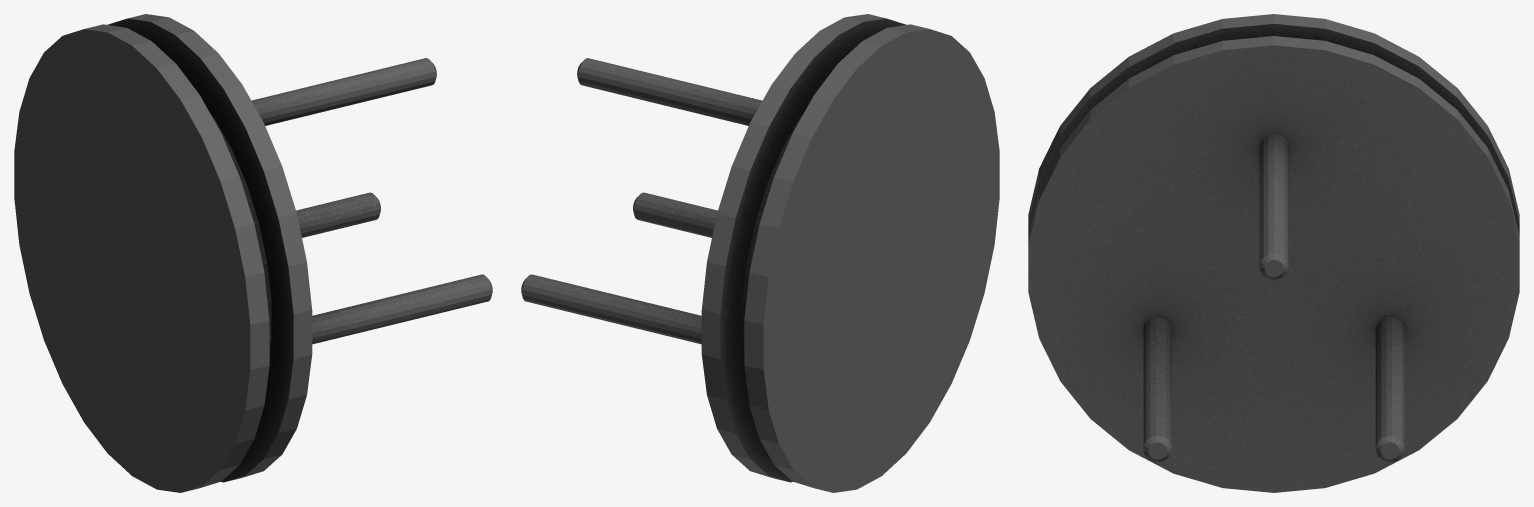
The model's file is wheel_rotor.dae.
3 renders of one model, left to right at view 1: azimuth 30°, elevation 25°; view 2: azimuth 150°, elevation 25°; view 3: azimuth 270°, elevation 25°, orthographic. The views are drawn at different scales.
Parts seen in each view (by area): view 1: Cylinder_001; view 2: Cylinder_001; view 3: Cylinder_001.
Boxes of the visible parts, x1=… form: Cylinder_001: x1=14, y1=14, x2=492, y2=492; Cylinder_001: x1=521, y1=14, x2=999, y2=492; Cylinder_001: x1=1028, y1=14, x2=1519, y2=492.
Bounding box in the file's own units: 0.1699 × 0.2315 × 0.2328.
1 material, 1 textured.
